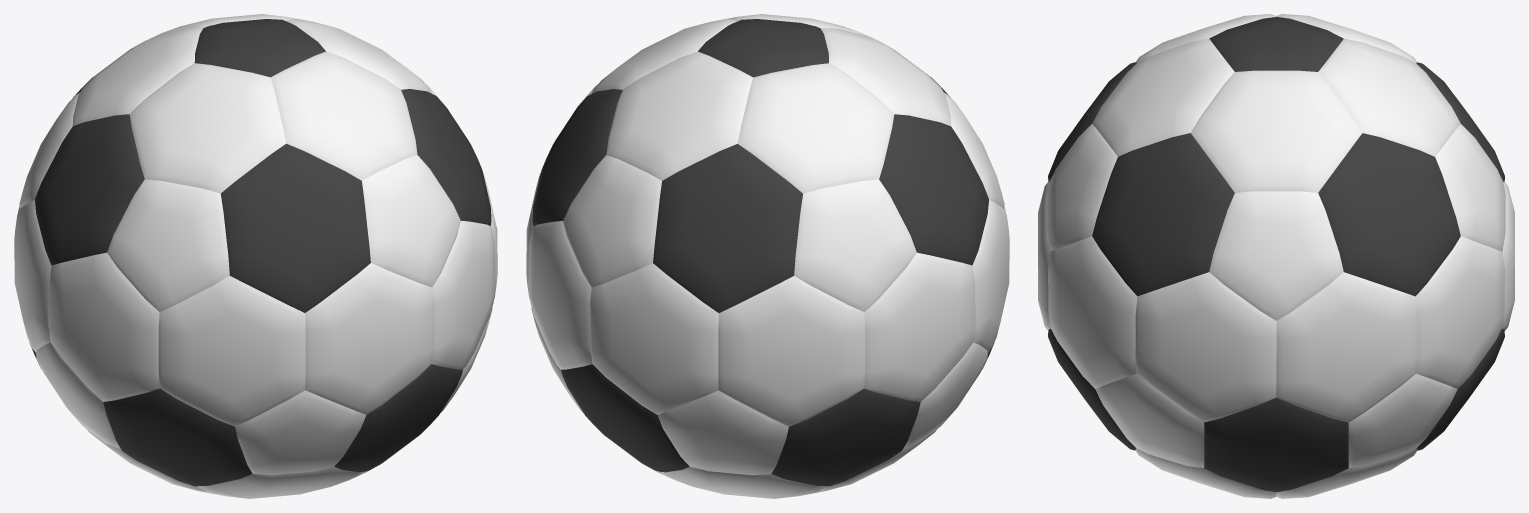
Rendered from level_153.fbx.
The picture shows the model from 3 angles, left to right: view 1: azimuth 30°, elevation 25°; view 2: azimuth 150°, elevation 25°; view 3: azimuth 270°, elevation 25°; orthographic projection.
Visible parts, largest first — view 1: Cube_L1_15, Cube_L1_9, Cube_L1_11, Cube_L1_21, Cube_L1_23, Cube_L1_1, Cube_L1_4, Cube_L1_3, Cube_L1_27, Cube_L1_6, Cube_L1_13, Cube_L1_33 (+11 smaller); view 2: Cube_L1_16, Cube_L1_8, Cube_L1_12, Cube_L1_20, Cube_L1_24, Cube_L1, Cube_L1_5, Cube_L1_3, Cube_L1_28, Cube_L1_7, Cube_L1_14, Cube_L1_32 (+11 smaller); view 3: Cube_L1_41, Cube_L1_40, Cube_L1_35, Cube_L1_34, Cube_L1_31, Cube_L1_39, Cube_L1_38, Cube_L1_32, Cube_L1_33, Cube_L1_23, Cube_L1_24, Cube_L1_36 (+14 smaller).
Part boxes in pixels (<box>): Cube_L1_15: <box>221,143,370,312</box>; Cube_L1_9: <box>158,276,305,426</box>; Cube_L1_11: <box>129,63,286,193</box>; Cube_L1_21: <box>305,263,433,414</box>; Cube_L1_23: <box>270,51,417,180</box>; Cube_L1_1: <box>48,252,159,401</box>; Cube_L1_4: <box>107,179,229,311</box>; Cube_L1_3: <box>35,114,144,265</box>; Cube_L1_27: <box>362,155,460,287</box>; Cube_L1_6: <box>103,388,252,486</box>; Cube_L1_13: <box>235,390,366,474</box>; Cube_L1_33: <box>431,220,495,369</box>; Cube_L1_16: <box>653,144,802,312</box>; Cube_L1_8: <box>718,276,865,426</box>; Cube_L1_12: <box>737,63,894,193</box>; Cube_L1_20: <box>590,263,718,414</box>; Cube_L1_24: <box>606,51,753,180</box>; Cube_L1: <box>864,252,975,401</box>; Cube_L1_5: <box>794,179,916,311</box>; Cube_L1_3: <box>879,114,988,265</box>; Cube_L1_28: <box>563,155,661,287</box>; Cube_L1_7: <box>771,388,920,486</box>; Cube_L1_14: <box>657,390,788,474</box>; Cube_L1_32: <box>528,221,592,369</box>; Cube_L1_41: <box>1135,272,1276,422</box>; Cube_L1_40: <box>1276,272,1417,422</box>; Cube_L1_35: <box>1318,133,1460,296</box>; Cube_L1_34: <box>1092,133,1234,296</box>; Cube_L1_31: <box>1191,70,1362,192</box>; Cube_L1_39: <box>1209,191,1343,320</box>; Cube_L1_38: <box>1204,397,1348,492</box>; Cube_L1_32: <box>1415,236,1504,388</box>; Cube_L1_33: <box>1048,236,1137,388</box>; Cube_L1_23: <box>1092,38,1234,156</box>; Cube_L1_24: <box>1318,38,1460,156</box>; Cube_L1_36: <box>1095,373,1204,467</box>.
Size of the model in its own units: 10.65 by 10.6 by 10.49.
